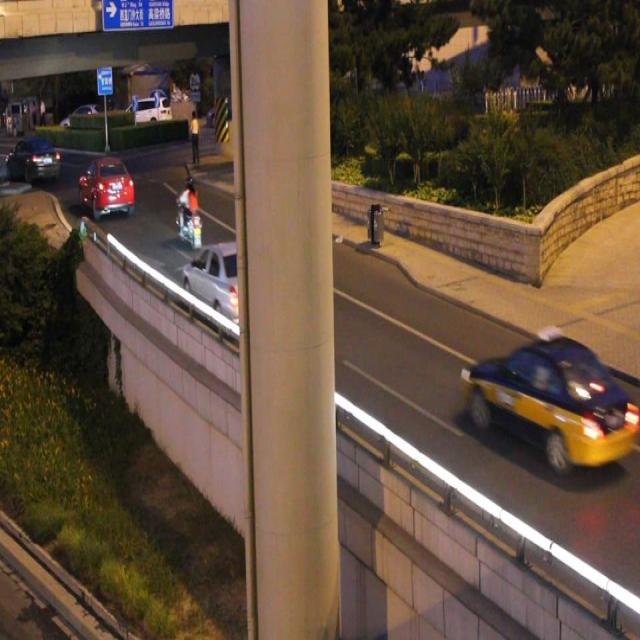car: (464, 341, 626, 462), (184, 241, 263, 329), (80, 160, 132, 215), (9, 138, 60, 180)
